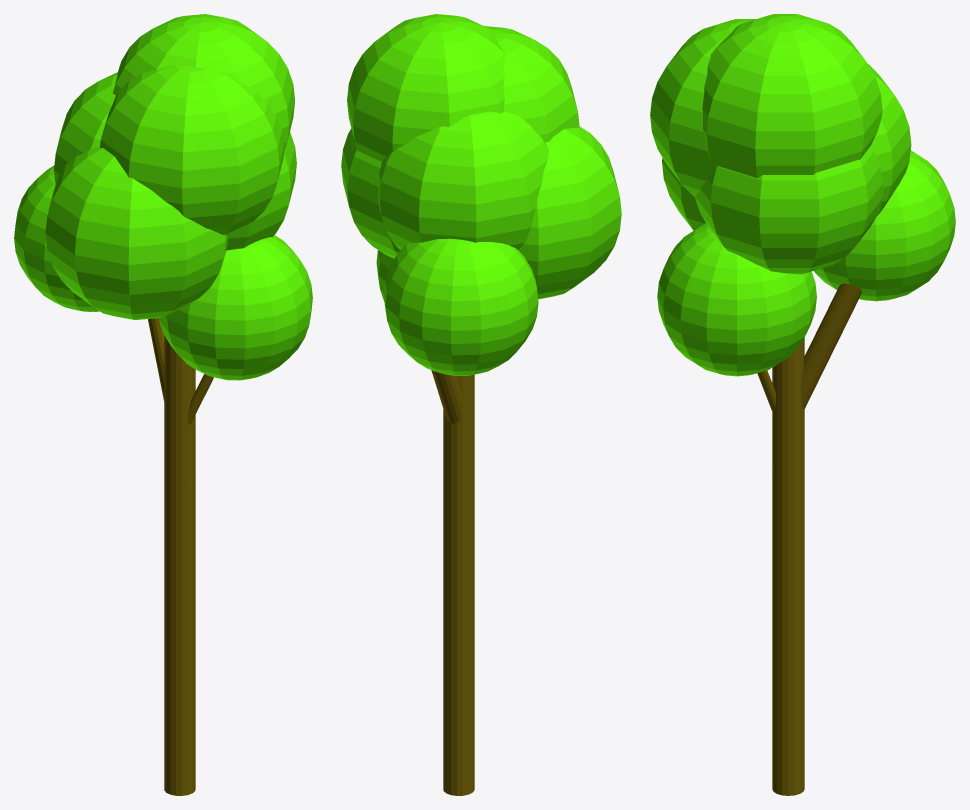
Rendered from TreeModel.fbx.
3 renders of one model, left to right at view 1: azimuth 30°, elevation 25°; view 2: azimuth 150°, elevation 25°; view 3: azimuth 270°, elevation 25°, orthographic. The views are drawn at different scales.
Visible parts, largest first — view 1: Cylinder; view 2: Cylinder; view 3: Cylinder.
Part boxes in pixels (x1,y1,x2,y2): Cylinder: (14,14,312,795); Cylinder: (341,14,621,795); Cylinder: (650,14,955,795).
Bounding box in the file's own units: 8.62 × 26.5 × 9.45.
